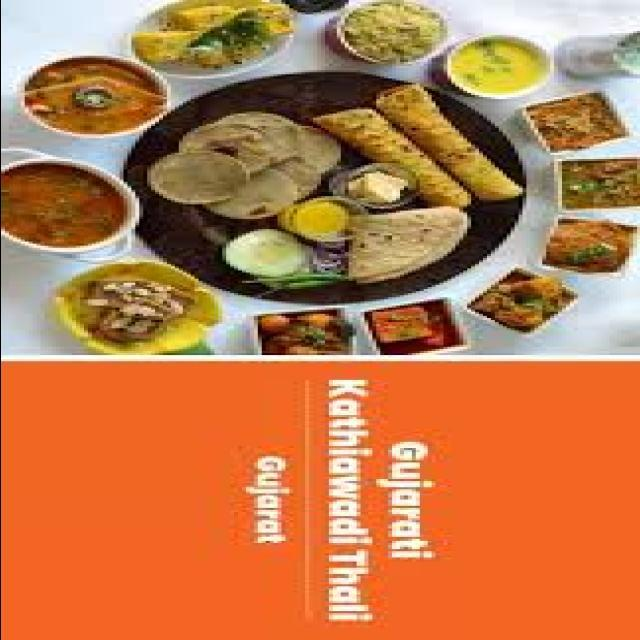dal: (282, 199, 352, 239)
papad: (340, 206, 464, 285)
roti: (339, 204, 463, 286)
sambar-rasam: (0, 153, 132, 253), (547, 154, 640, 213)
veg-fry: (24, 48, 168, 143)
